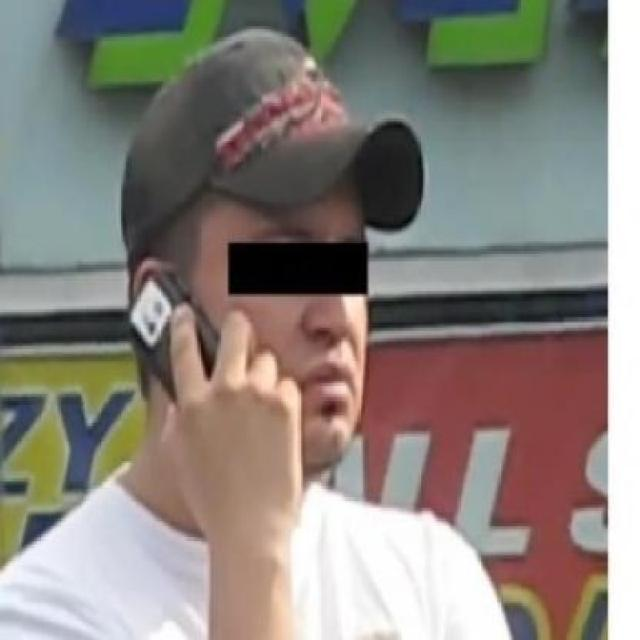hat: (122, 28, 423, 264)
